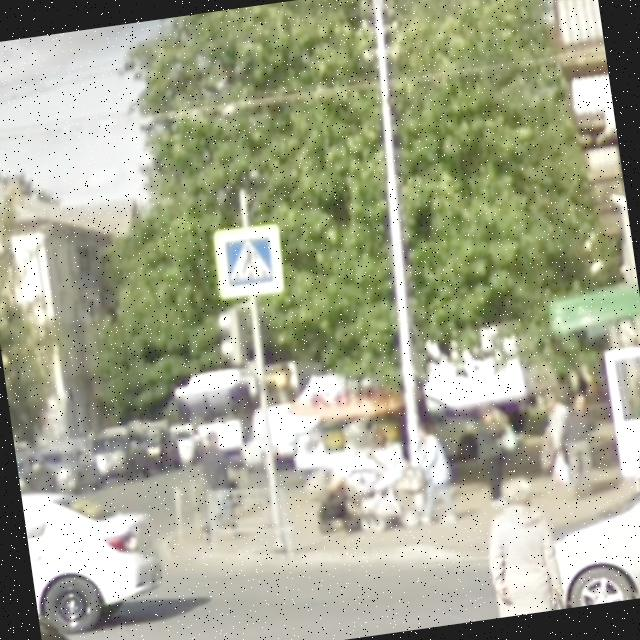Przejscie dla pieszych: (205, 218, 292, 306)
